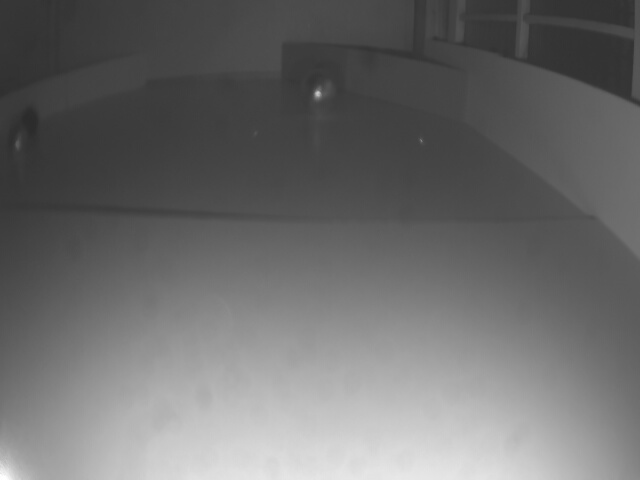Green: (276, 39, 466, 120)
Red: (0, 51, 149, 135)
